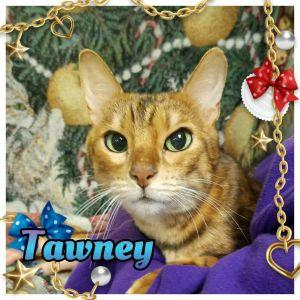bengal: (72, 42, 233, 223)
